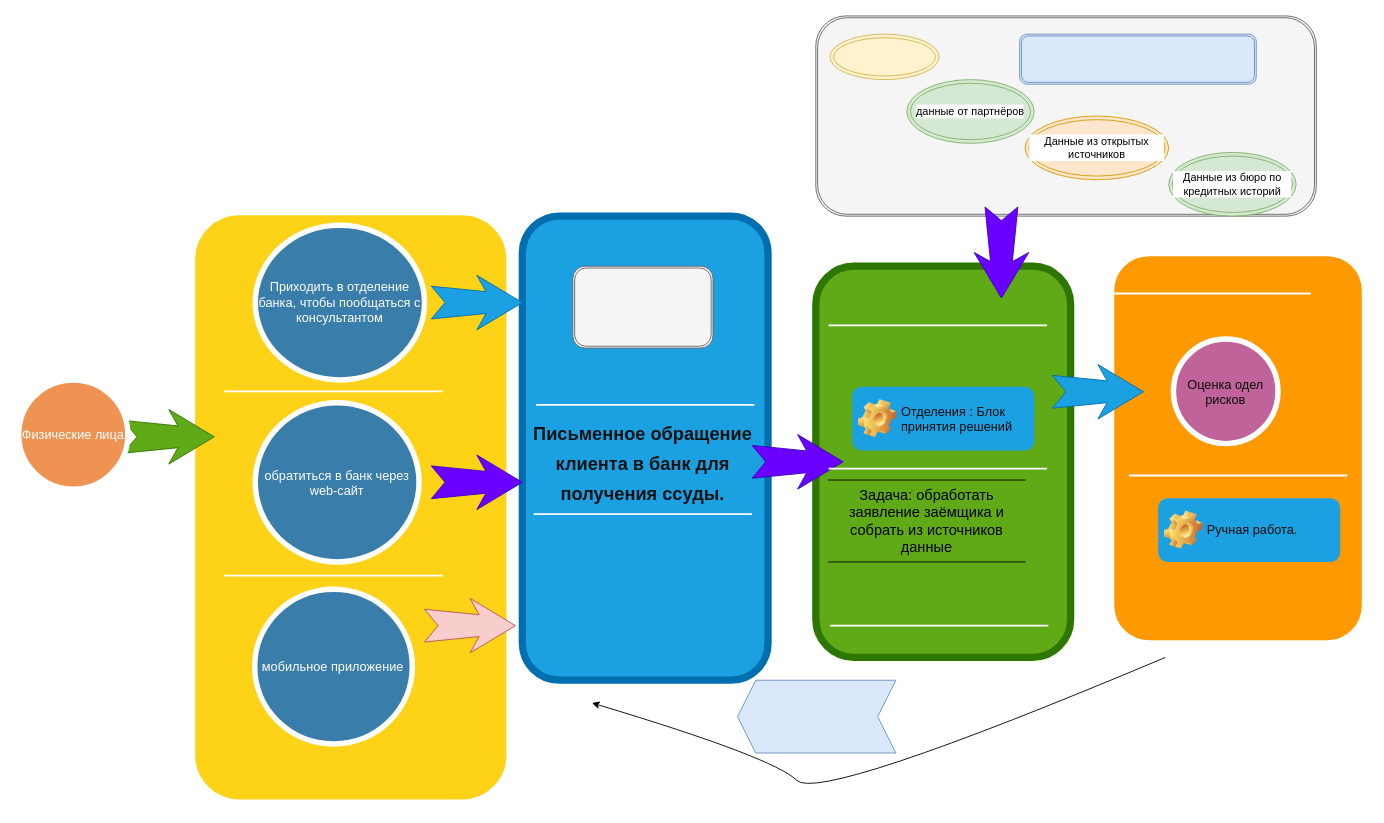
Some shapes in this 1384 by 823 pixel diagram are drawn without their labels. The shapes that lost their labels are listed below. From the top down, each one's centre as x and y in pixels, then its label:
(x=884, y=56): АБС
(x=1137, y=58): Источников получения данных
(x=642, y=306): Заявление на выдачу кредита
(x=816, y=716): Разрешить / Отказать
